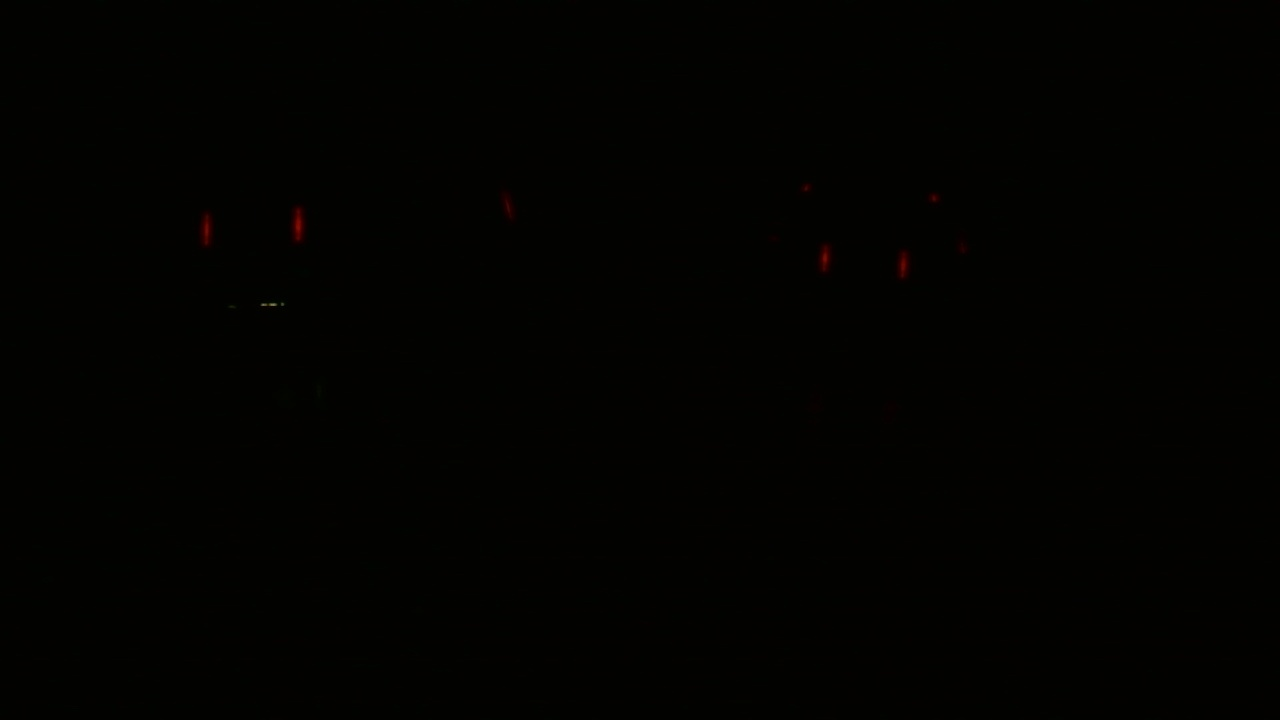pair1: (192, 198, 319, 261)
pair2: (805, 237, 924, 289)
